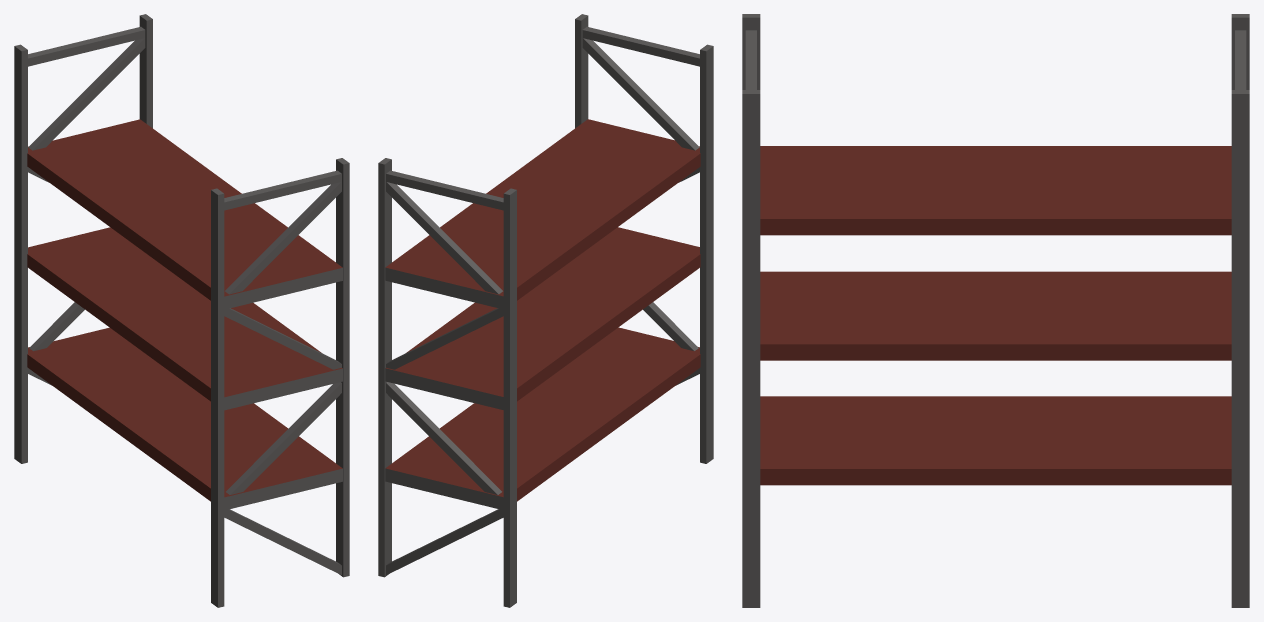
File: StorageRack.fbx
3 views of the same model, side by side, from view 1: azimuth 30°, elevation 25°; view 2: azimuth 150°, elevation 25°; view 3: azimuth 270°, elevation 25° (orthographic). The views are drawn at different scales.
Parts seen in each view (by area): view 1: StorageRack_2_mesh.001, StorageRack_2_mesh; view 2: StorageRack_2_mesh.001, StorageRack_2_mesh; view 3: StorageRack_2_mesh.001, StorageRack_2_mesh.
Part boxes in pixels (bbox=[...]): StorageRack_2_mesh.001: bbox=[27, 119, 342, 501]; StorageRack_2_mesh: bbox=[14, 14, 349, 607]; StorageRack_2_mesh.001: bbox=[385, 119, 700, 501]; StorageRack_2_mesh: bbox=[378, 14, 713, 607]; StorageRack_2_mesh.001: bbox=[760, 146, 1231, 485]; StorageRack_2_mesh: bbox=[742, 14, 1249, 607].
Size of the model in its own units: 85 by 255 by 228.
